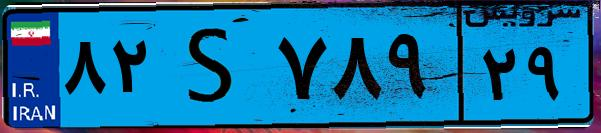2: (475, 38, 525, 113), (110, 28, 158, 98)
7: (270, 28, 330, 110)
8: (330, 28, 385, 110), (57, 26, 110, 100)
9: (385, 28, 445, 110), (525, 38, 570, 115)
S: (158, 12, 270, 120)
